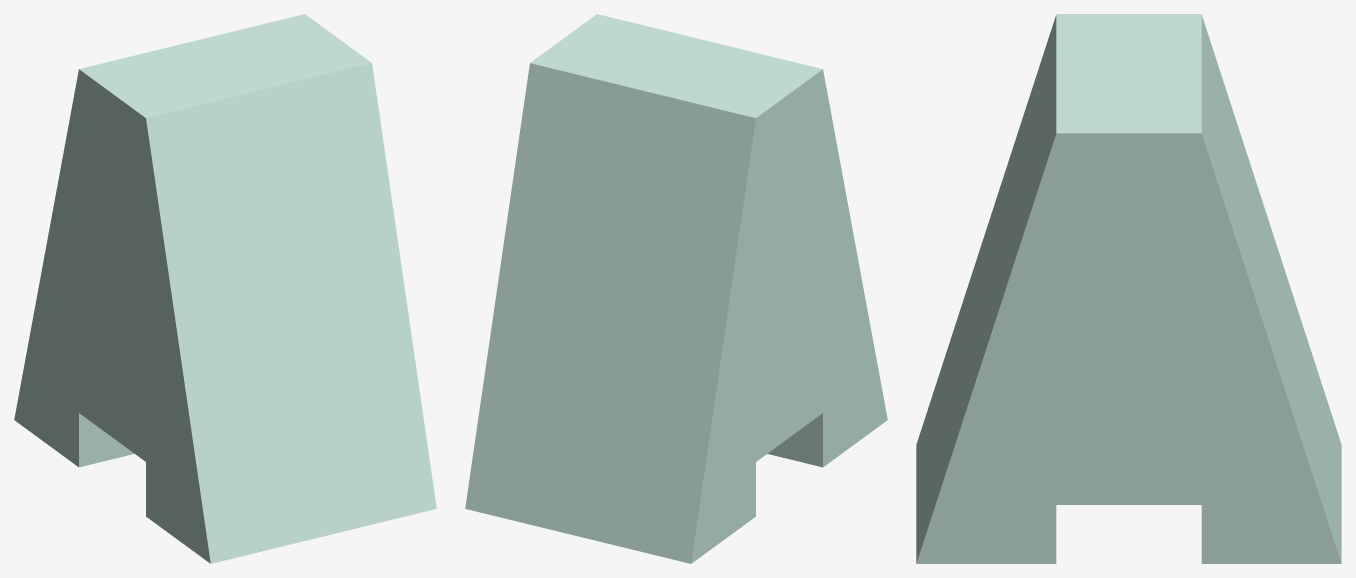
Rendered from expected.gltf.
3 renders of one model, left to right at view 1: azimuth 30°, elevation 25°; view 2: azimuth 150°, elevation 25°; view 3: azimuth 270°, elevation 25°, orthographic. The views are drawn at different scales.
Parts seen in each view (by area): view 1: Renderer Node; view 2: Renderer Node; view 3: Renderer Node.
Boxes of the visible parts, x1,y1,x2,y2 form: Renderer Node: [14, 14, 436, 563]; Renderer Node: [465, 14, 887, 563]; Renderer Node: [916, 14, 1341, 563].
Bounding box in the file's own units: 0.4453 × 0.75 × 0.6711.
